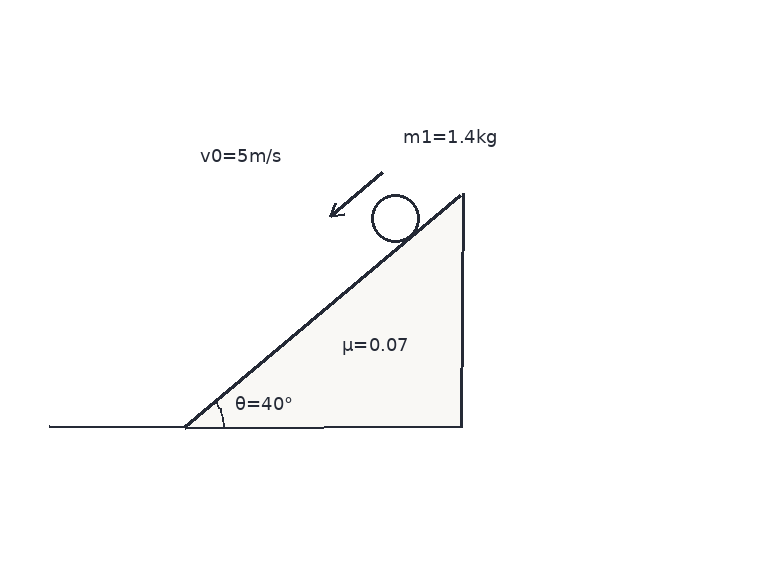ball: (369, 192, 421, 244)
ramp: (182, 191, 463, 428)
